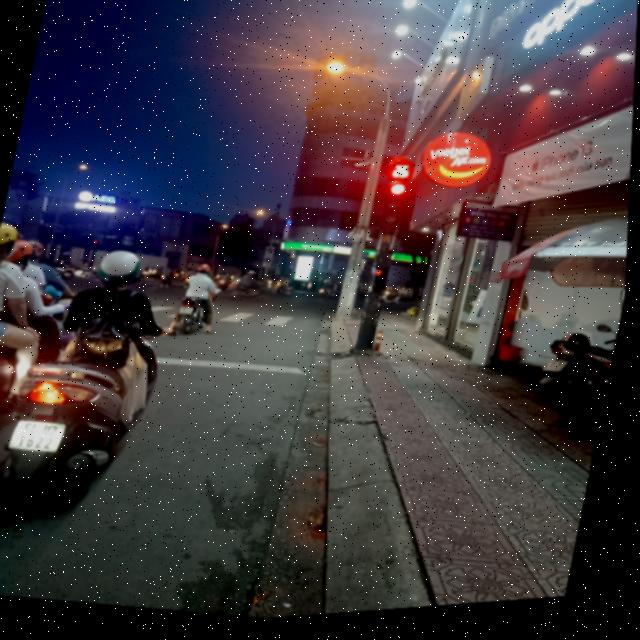Red: (383, 184, 411, 235), (369, 270, 392, 304)
